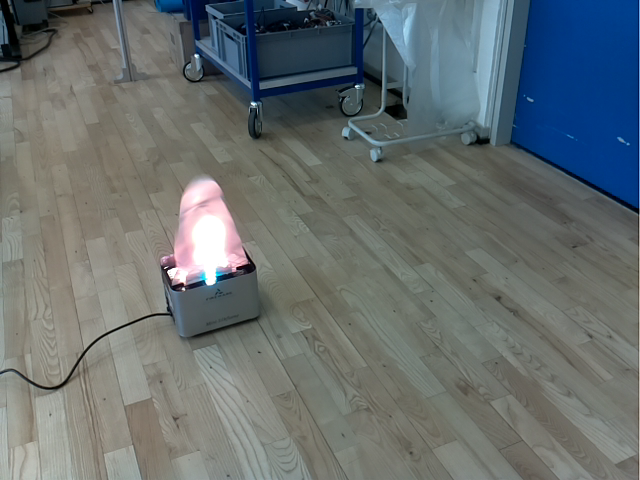fire: (170, 174, 249, 286)
